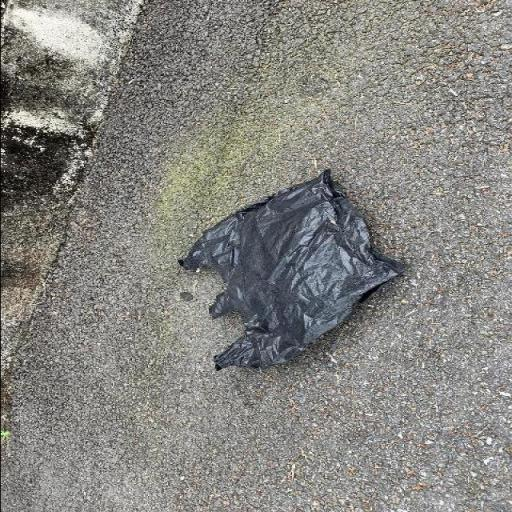plastic-bag: (174, 166, 405, 374)
